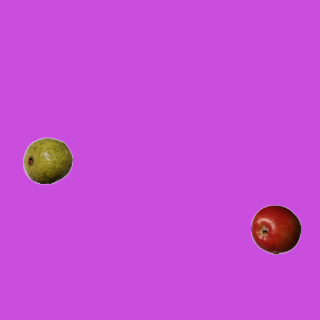Apple Braeburn: (250, 204, 300, 254)
Guava: (22, 135, 72, 185)
